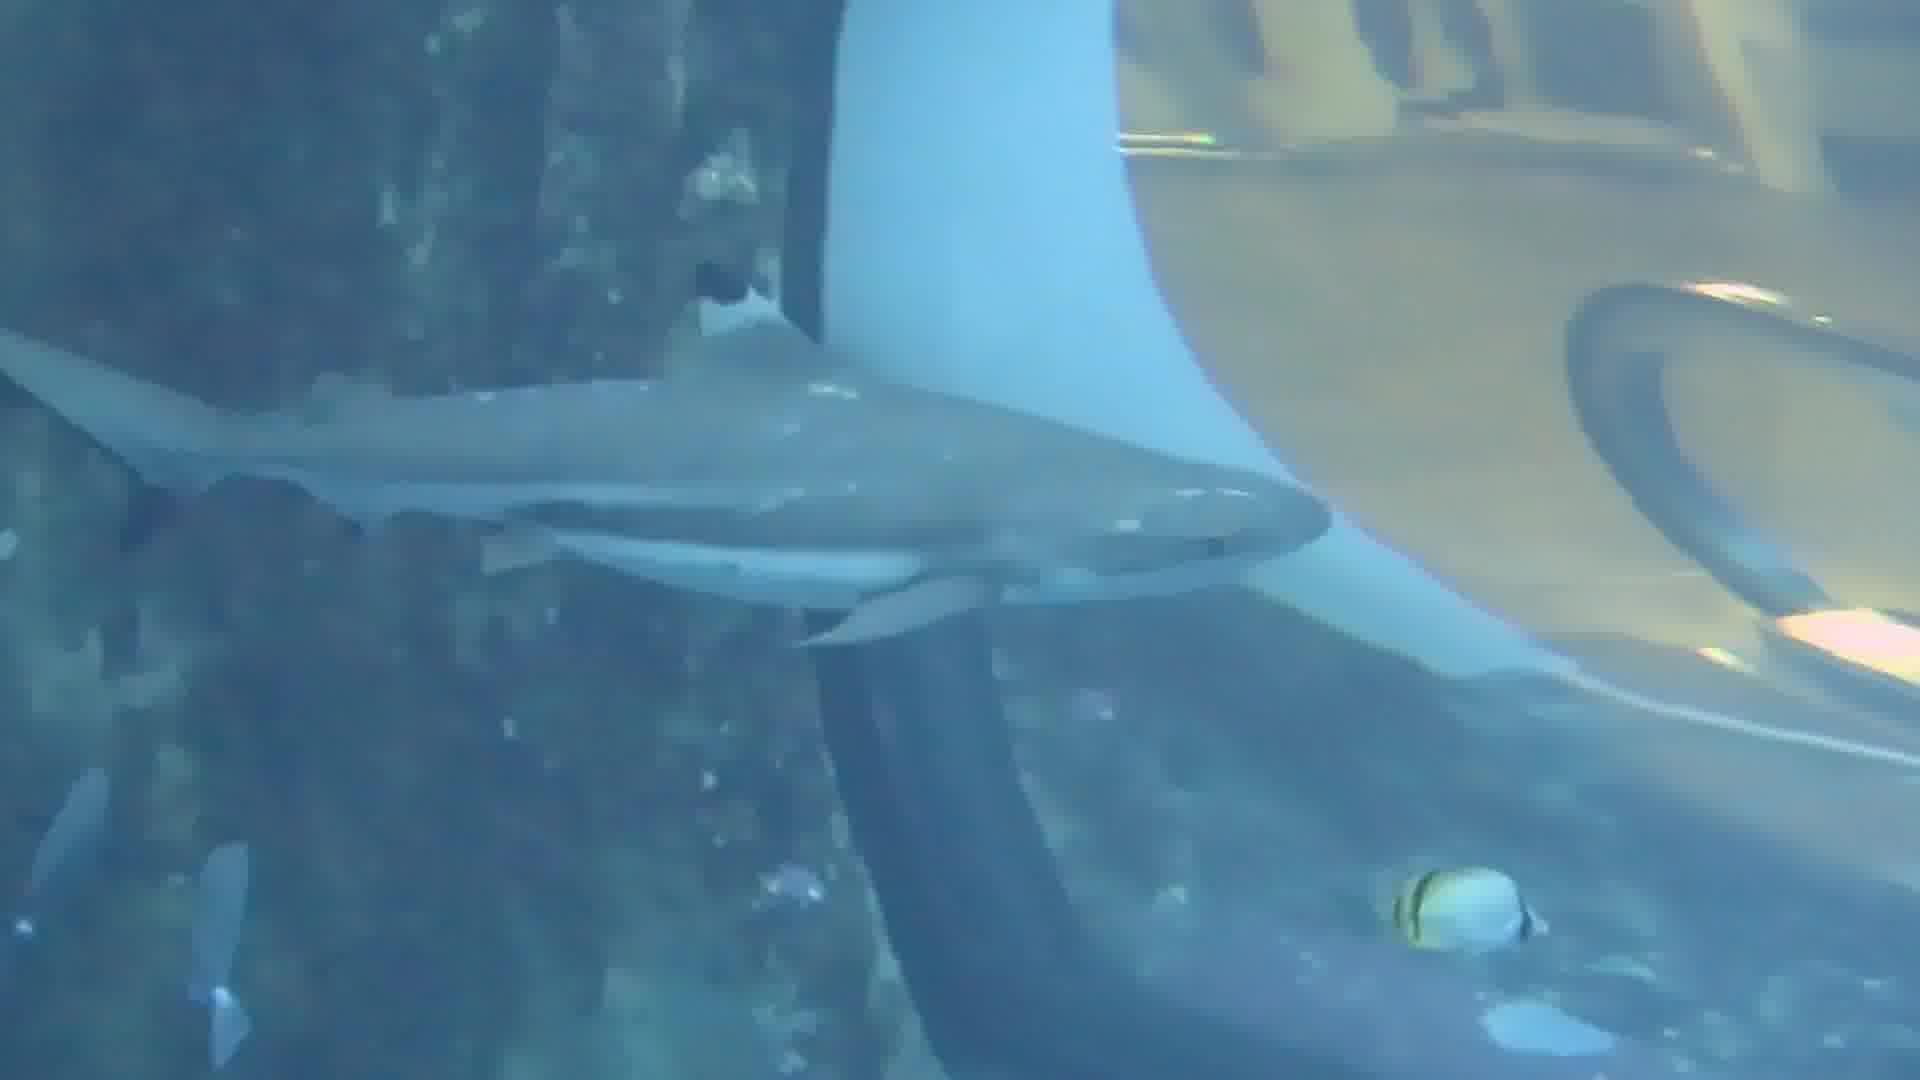Carcharhinus melanopterus: (33, 231, 1337, 682)
